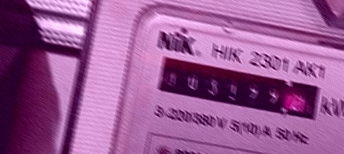0: (162, 69, 177, 89), (185, 72, 198, 92)
1: (227, 76, 238, 96)
3: (206, 78, 216, 97)
6: (288, 99, 299, 116)
9: (266, 88, 278, 107), (247, 82, 257, 101)
screen: (149, 53, 327, 129)
